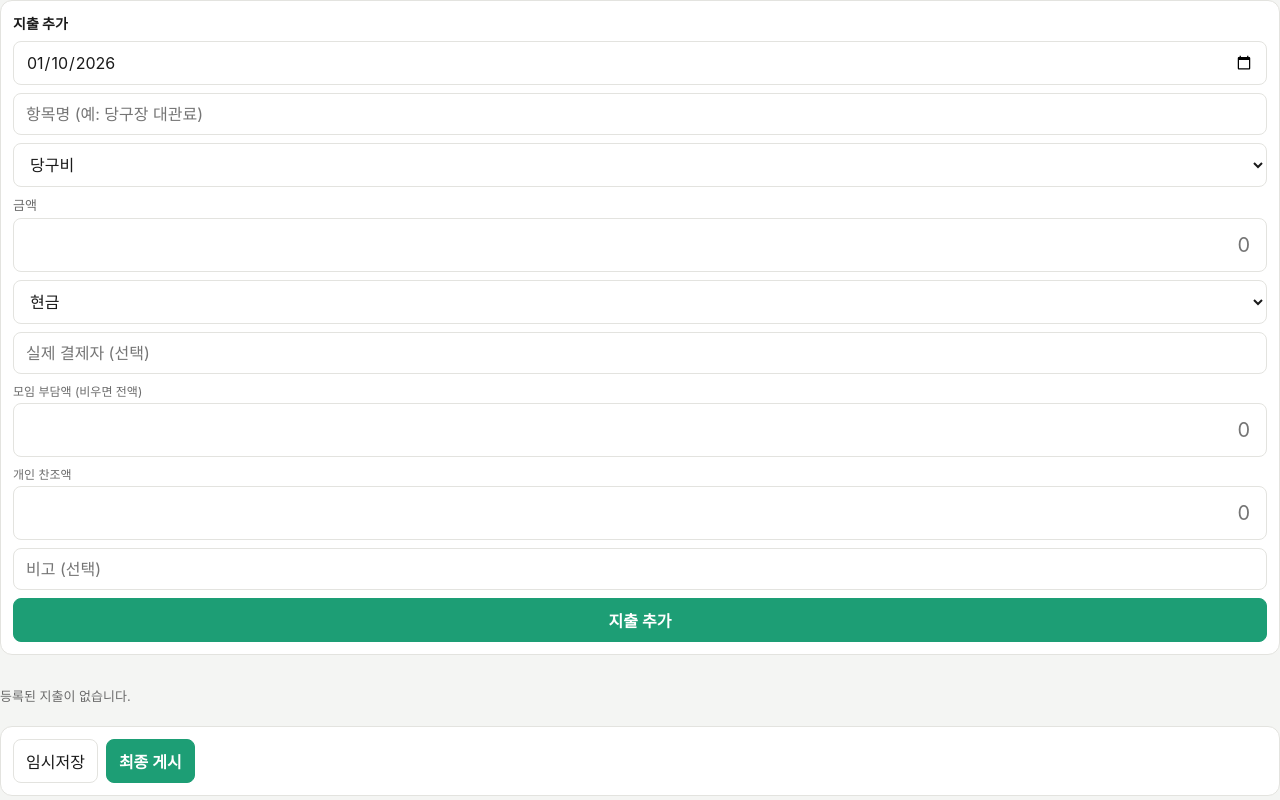
[재현 및 수정 확인] 기타 지출 — 전체 금액 입력·모임 부담액 비워둠·저장 › [확인된 버그 재현] 모임부담액에 실수로 0을 입력하면(개인찬조 없이) 합계가 전체 금액과 안 맞아 저장이 막히고 안내 문구가 뜬다
Type "주차비" into the field with placeholder "항목명 (예: 당구장 대관료)" at (640, 114), box top-left (13, 93), bottom-right (1267, 135)
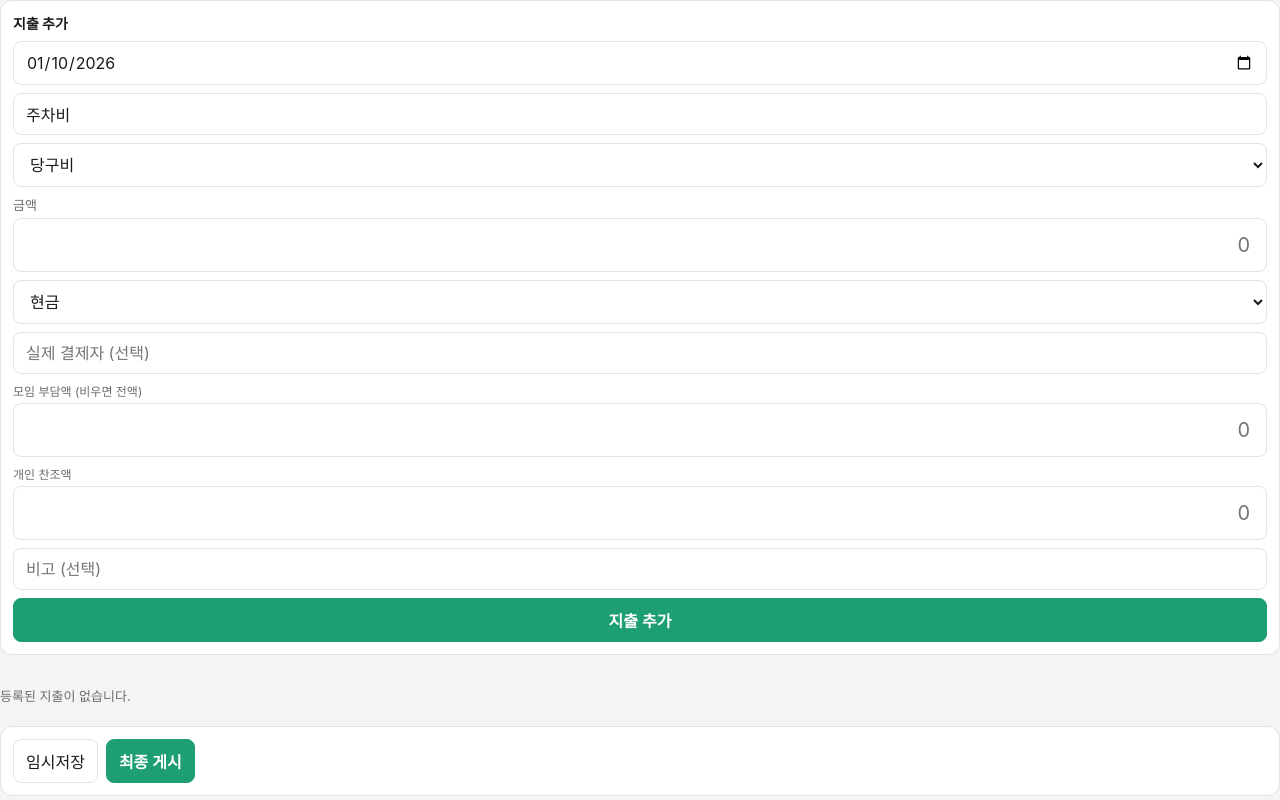
Type "5000" into the field with placeholder "0" below "금액" at (640, 245), box top-left (13, 218), bottom-right (1267, 272)
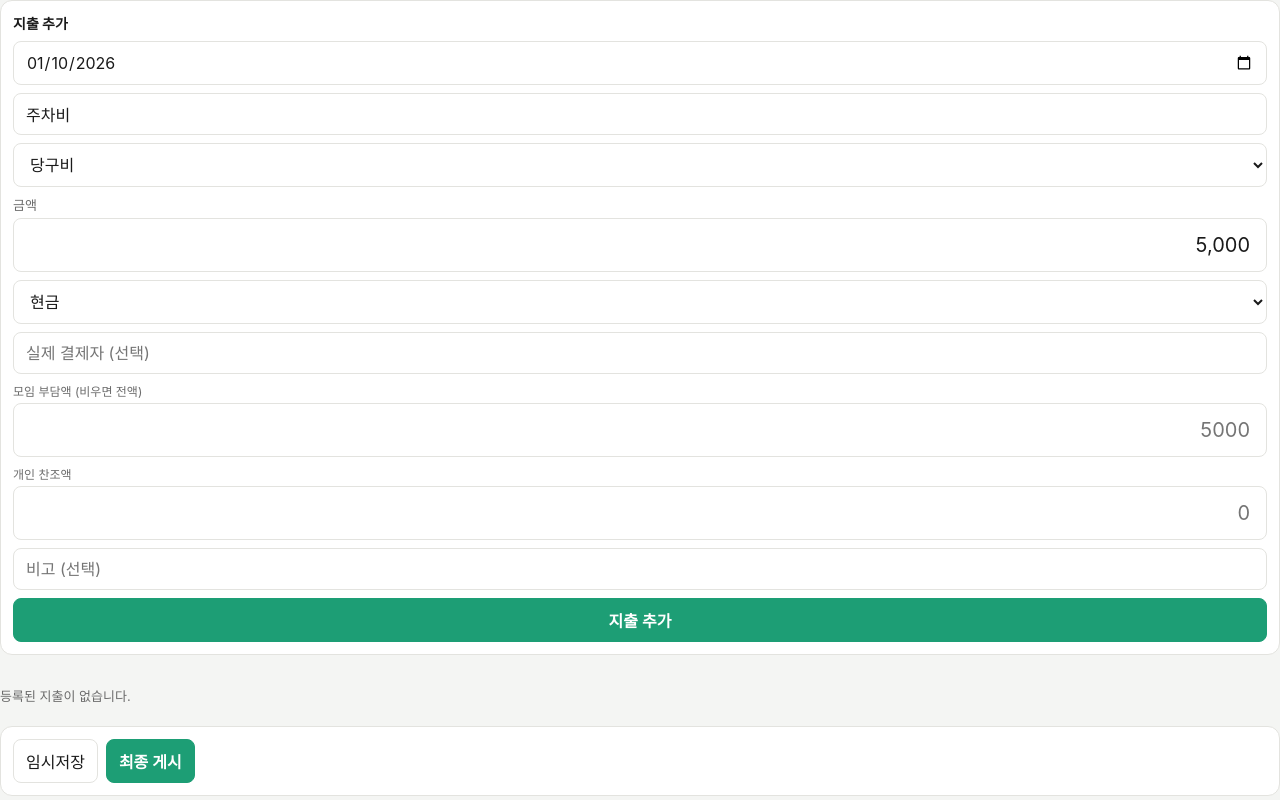
Type "0" into the field with placeholder "5000" at (640, 430), box top-left (13, 403), bottom-right (1267, 457)
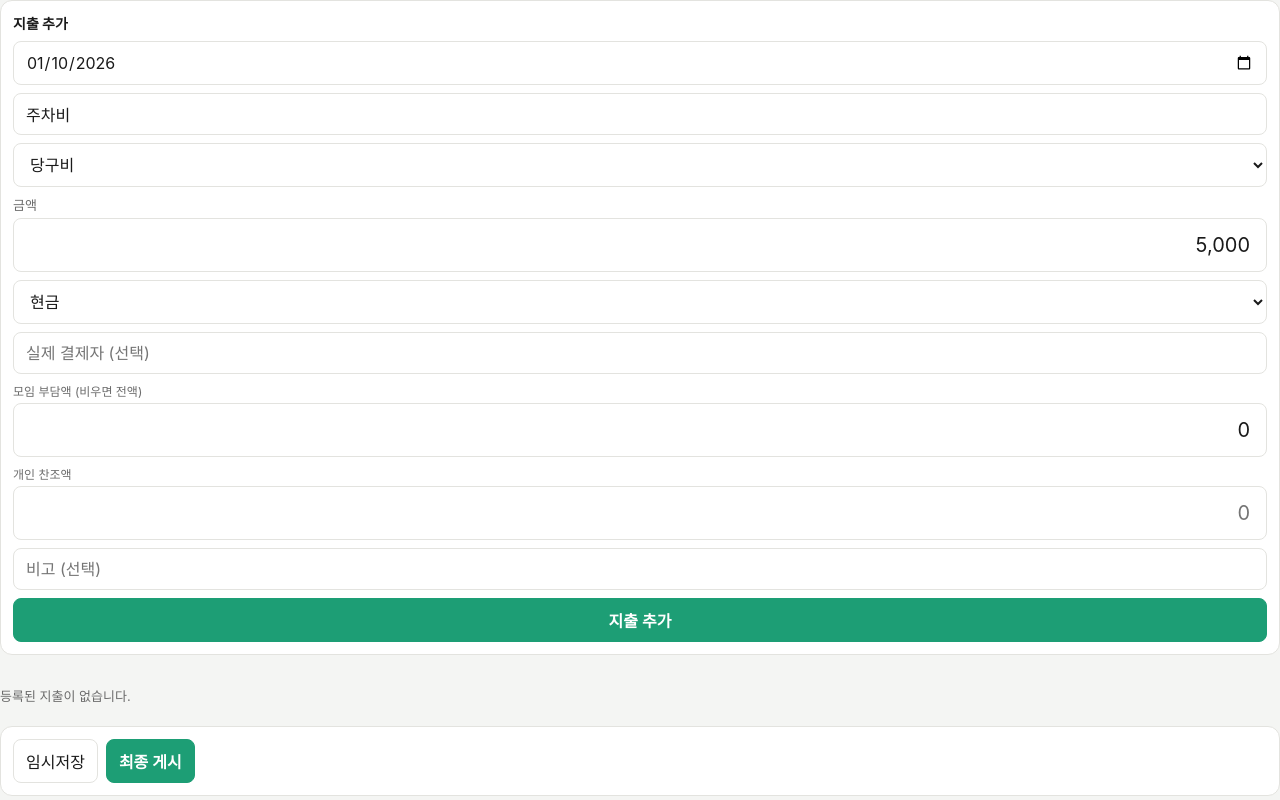
Click the button "지출 추가" at (640, 620), box top-left (13, 598), bottom-right (1267, 642)
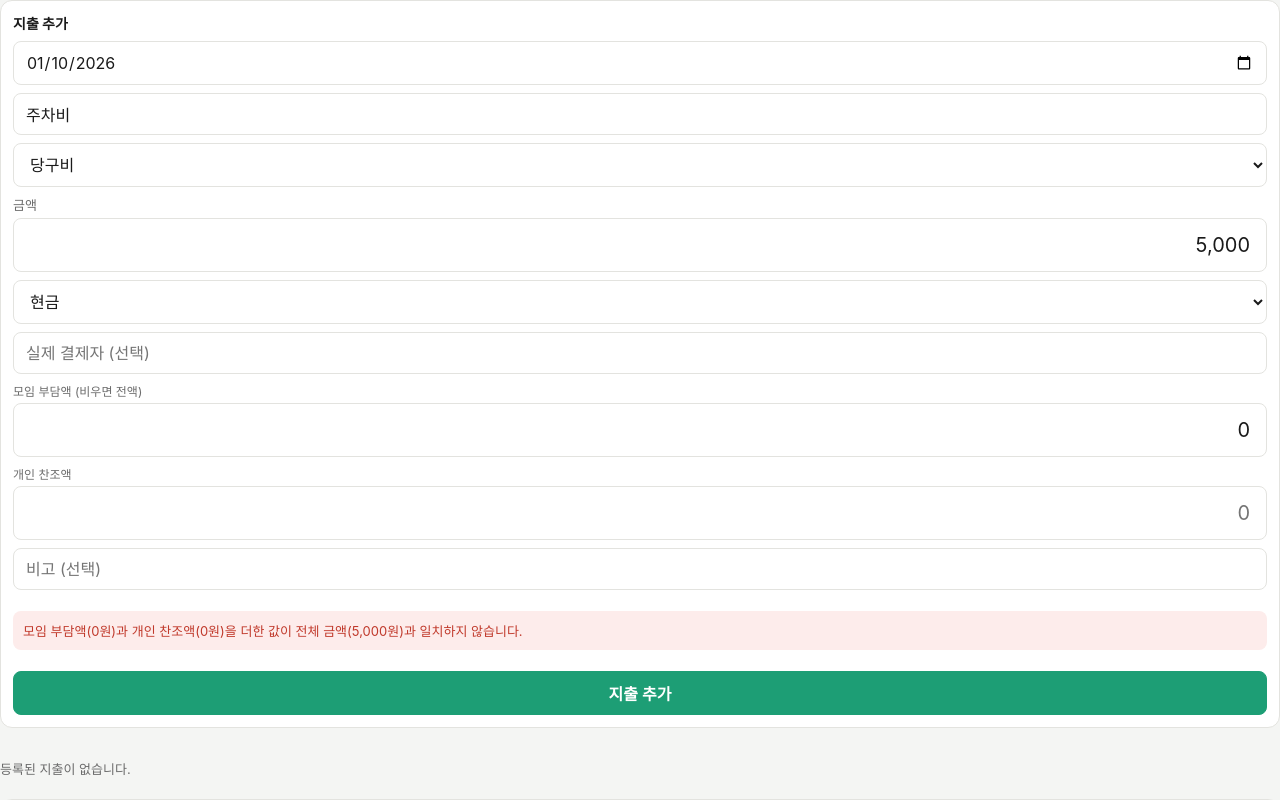
Check: the text "모임 부담액(0원)과 개인 찬조액(0원)을 더한 값이 전체 금액(5,000원)과 일치하지 않습니다." is shown, box top-left (13, 611), bottom-right (1267, 650)
